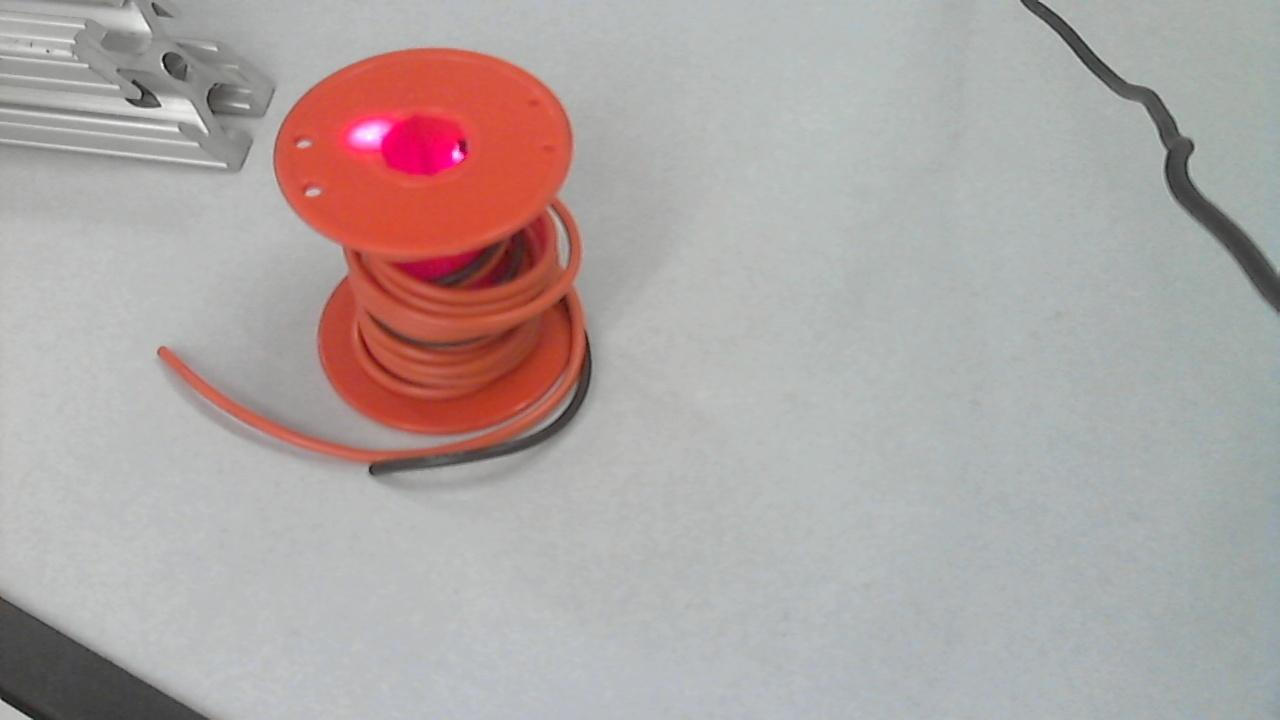Object wire spool -Material plastic - Color oranges - Pdfname ZryFz3DBSiO8: (347, 103, 485, 187)
